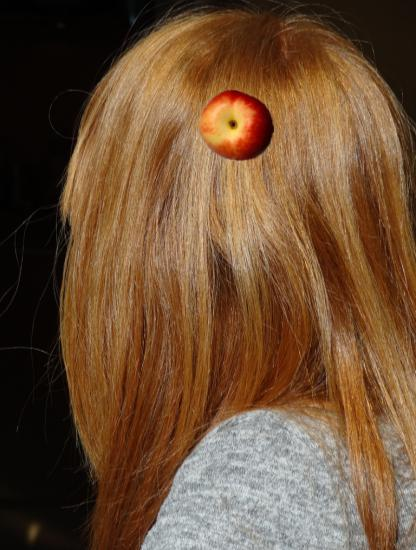Nectarine: (199, 88, 275, 164)
